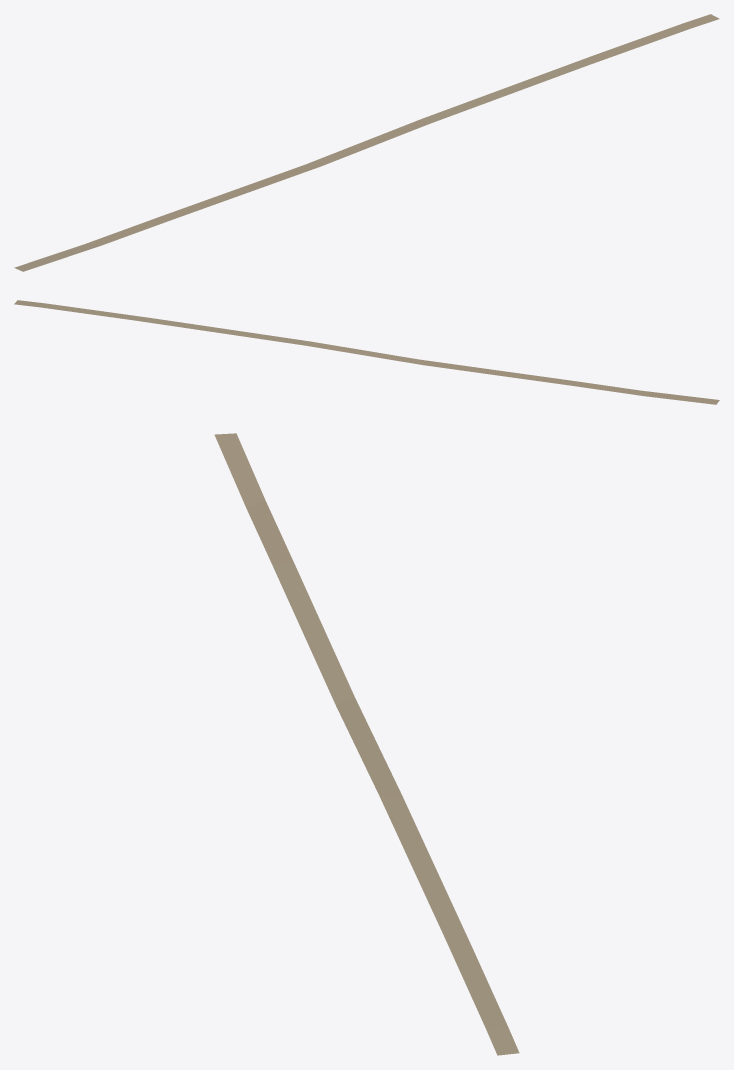
The model's file is farm_30_37_track.glb.
3 views of the same model, one above another, from view 1: azimuth 30°, elevation 25°; view 2: azimuth 150°, elevation 25°; view 3: azimuth 270°, elevation 25° (orthographic). The views are drawn at different scales.
Parts seen in each view (by area): view 1: geometry_0; view 2: geometry_0; view 3: geometry_0.
Boxes of the visible parts, box(x1,y1,x2,y2) form: geometry_0: box(14, 14, 719, 271); geometry_0: box(14, 300, 719, 404); geometry_0: box(214, 433, 519, 1055).
Bounding box in the file's own units: 213 × 1.06 × 44.35.
